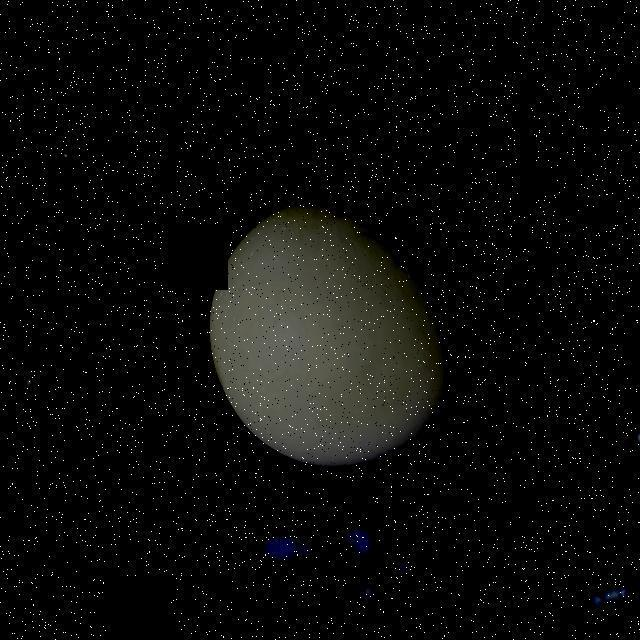egg: (203, 188, 468, 478)
